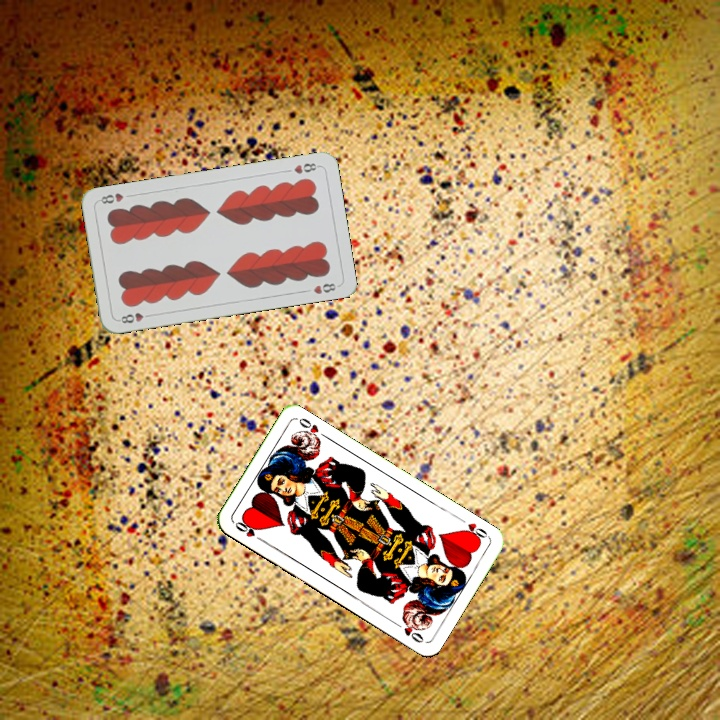H8: (114, 309, 155, 326), (290, 159, 322, 177)
HO: (454, 514, 491, 544), (231, 517, 267, 545)
